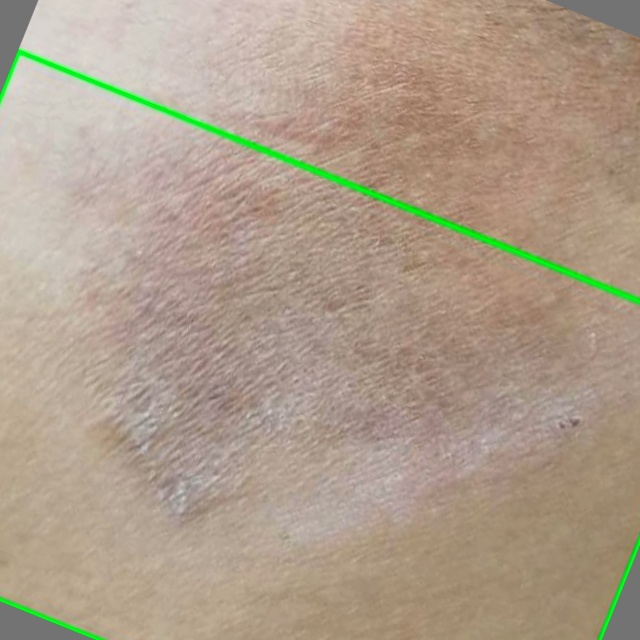Contact Dermatitis: (0, 51, 639, 639)
